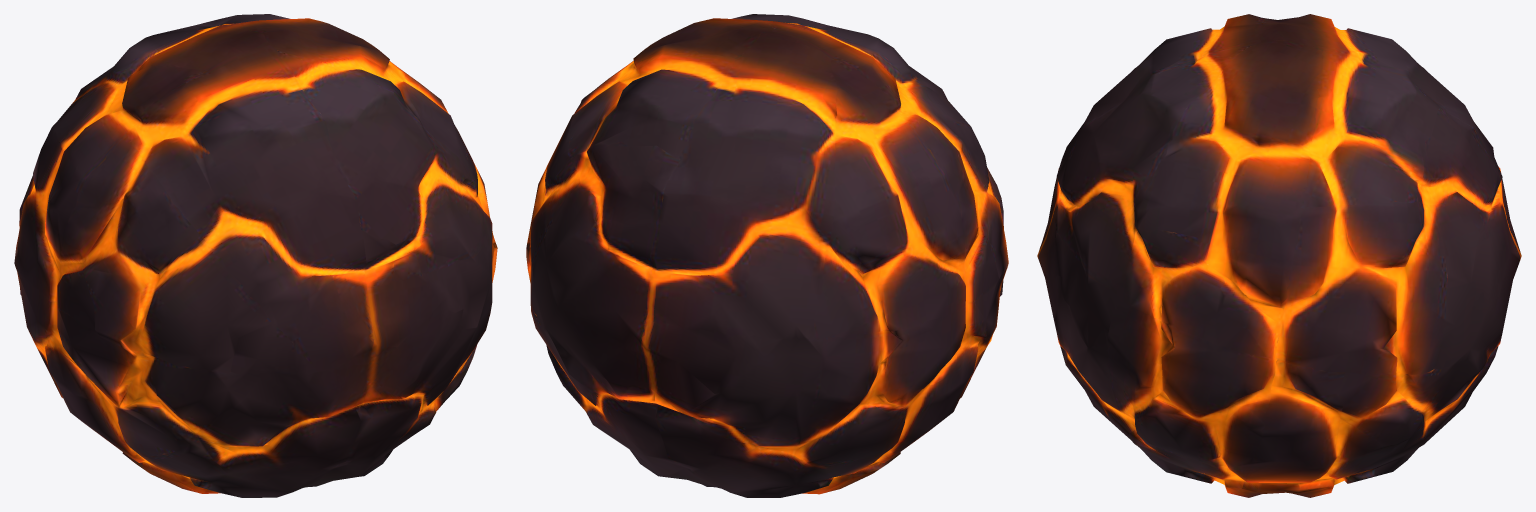
Rendered from meteorite.glb.
The picture shows the model from 3 angles, left to right: view 1: azimuth 30°, elevation 25°; view 2: azimuth 150°, elevation 25°; view 3: azimuth 270°, elevation 25°; orthographic projection.
Visible parts, largest first — view 1: mesh_node; view 2: mesh_node; view 3: mesh_node.
Part boxes in pixels (x1,y1,x2,y2): mesh_node: (14,14,497,497); mesh_node: (526,14,1008,497); mesh_node: (1037,14,1521,497).
Size of the model in its own units: 1.82 by 1.9 by 1.9.
1 material, 1 textured.
